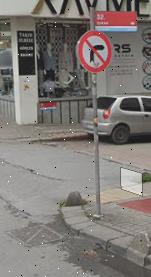rightturnsareforbidden: (78, 33, 110, 73)
